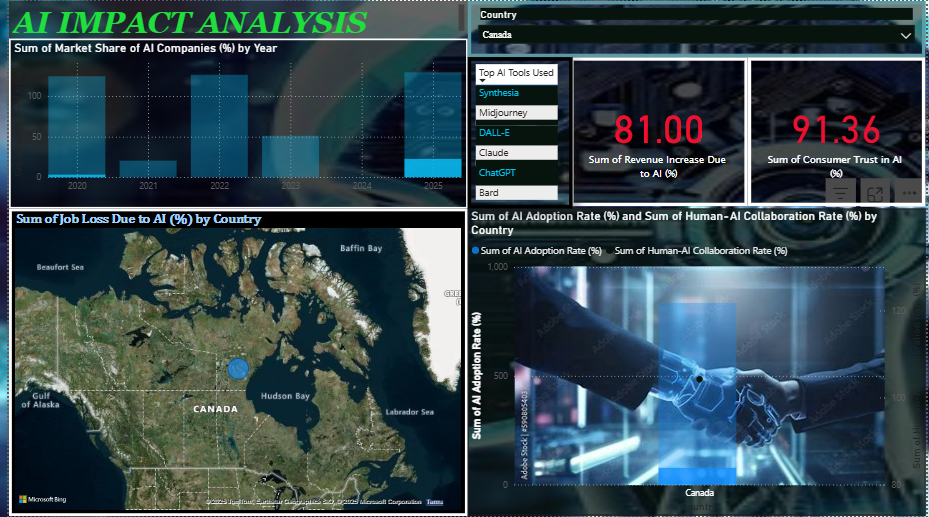

Layout of this report page (visuals, bound fields, positions):
{"tool":"powerbi","page":{"name":"Page 1","canvas":[1280,720],"ordinal":0},"visuals":[{"type":"map","fields":{"Category":["Global_AI_Content_Impact_Dataset.Country"],"Size":["Sum(Global_AI_Content_Impact_Dataset.Job Loss Due to AI (%))"]},"box":[0,289.8,640.8,429.5],"z":0},{"type":"lineStackedColumnComboChart","fields":{"Y":["Sum(Global_AI_Content_Impact_Dataset.Market Share of AI Companies (%))"],"Category":["Global_AI_Content_Impact_Dataset.Year"]},"box":[0,52.4,640.8,237.4],"z":1000},{"type":"card","fields":{"Values":["Sum(Global_AI_Content_Impact_Dataset.Revenue Increase Due to AI (%))"]},"box":[783.9,78.6,247.9,207.8],"z":2000},{"type":"lineClusteredColumnComboChart","fields":{"Category":["Global_AI_Content_Impact_Dataset.Country"],"Y":["Sum(Global_AI_Content_Impact_Dataset.AI Adoption Rate (%))"],"Y2":["Sum(Global_AI_Content_Impact_Dataset.Human-AI Collaboration Rate (%))"]},"box":[640.8,289.8,639,429.5],"z":3000},{"type":"slicer","fields":{"Values":["Global_AI_Content_Impact_Dataset.Country"]},"box":[640.8,0,639,78.6],"z":4000},{"type":"tableEx","fields":{"Values":["Global_AI_Content_Impact_Dataset.Top AI Tools Used"]},"box":[640.8,78.6,146.7,211.3],"z":5000},{"type":"card","fields":{"Values":["Sum(Global_AI_Content_Impact_Dataset.Consumer Trust in AI (%))"]},"box":[1031.8,78.6,247.9,207.8],"z":6000},{"type":"textbox","box":[0,0,640.8,52.4],"z":6001}]}

Visuals, with their boxes in screenshot pixels (x1, y1, x2, y2), scaled from the page's 1280x720 canvas onto the 929x517 screenshot:
map - Global_AI_Content_Impact_Dataset.Country x Sum(Global_AI_Content_Impact_Dataset.Job Loss Due to AI (%)): 0:208:465:516
lineStackedColumnComboChart - Sum(Global_AI_Content_Impact_Dataset.Market Share of AI Companies (%)) x Global_AI_Content_Impact_Dataset.Year: 0:38:465:208
card - Sum(Global_AI_Content_Impact_Dataset.Revenue Increase Due to AI (%)): 569:56:749:206
lineClusteredColumnComboChart - Global_AI_Content_Impact_Dataset.Country x Sum(Global_AI_Content_Impact_Dataset.AI Adoption Rate (%)): 465:208:928:516
slicer - Global_AI_Content_Impact_Dataset.Country: 465:0:928:56
tableEx - Global_AI_Content_Impact_Dataset.Top AI Tools Used: 465:56:572:208
card - Sum(Global_AI_Content_Impact_Dataset.Consumer Trust in AI (%)): 749:56:928:206
textbox: 0:0:465:38
